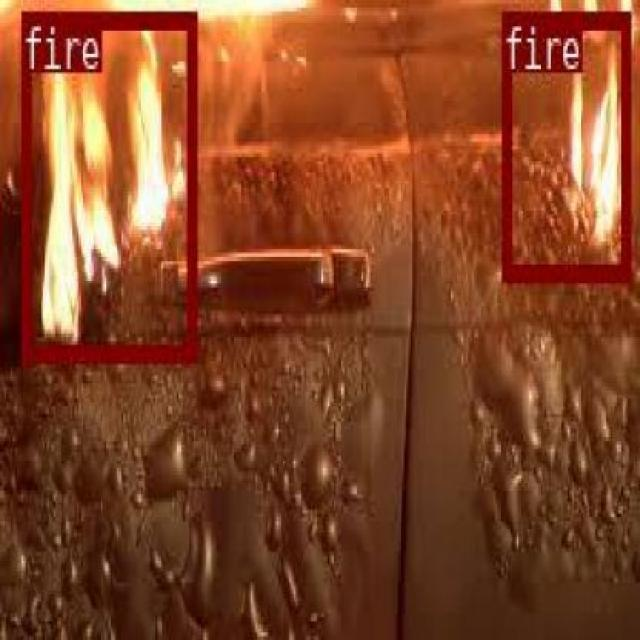Fire: (21, 8, 194, 360), (501, 8, 628, 276)
